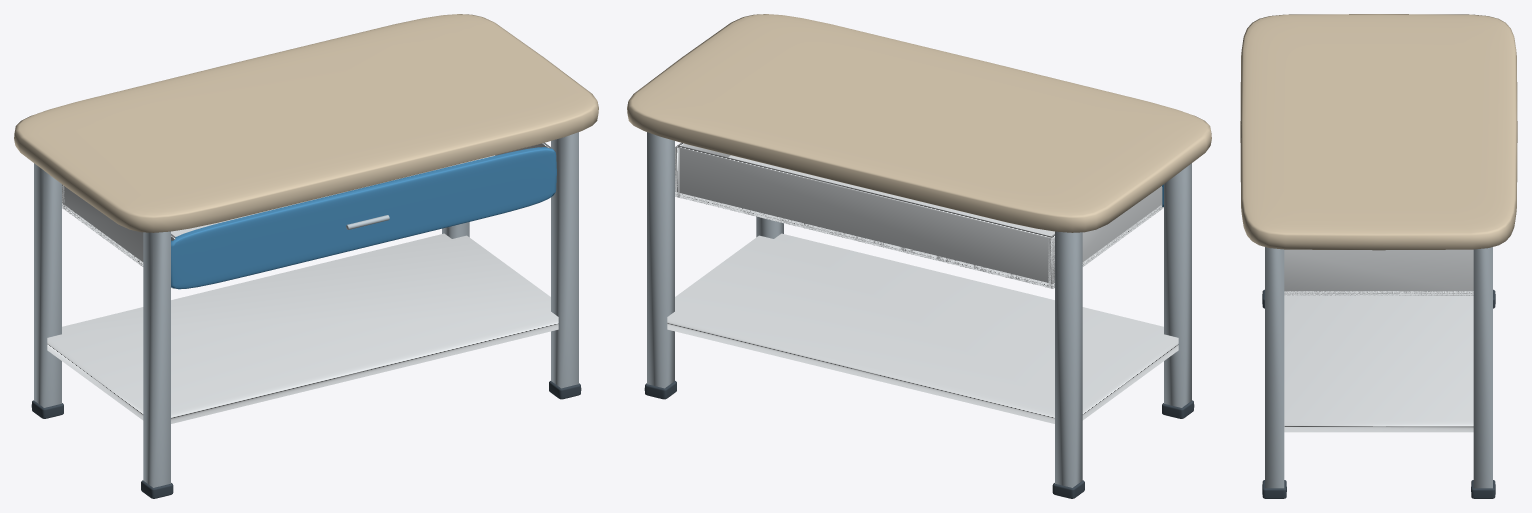
The model's file is model_workbench.glb.
3 renders of one model, left to right at view 1: azimuth 30°, elevation 25°; view 2: azimuth 150°, elevation 25°; view 3: azimuth 270°, elevation 25°, orthographic. The views are drawn at different scales.
Visible parts, largest first — view 1: Model_Worktop, Lower_Shelf, Workbench_Drawer_Front, Square_Leg-0.690.32, Square_Leg0.690.32, Square_Leg-0.69-0.32, Workbench_Drawer_Side_-1, Workbench_Drawer_Bottom; view 2: Model_Worktop, Lower_Shelf, Workbench_Drawer_Back, Square_Leg-0.69-0.32, Square_Leg0.69-0.32, Square_Leg-0.690.32, Workbench_Drawer_Bottom, Workbench_Drawer_Side_-1; view 3: Model_Worktop, Lower_Shelf, Workbench_Drawer, Square_Leg0.69-0.32, Square_Leg0.690.32, Workbench_Drawer_Bottom, Bench_Foot0.69-0.32, Bench_Foot0.690.32.
Part boxes in pixels (x1,y1,x2,y2): Model_Worktop: (14,14,598,232); Lower_Shelf: (47,233,558,423); Workbench_Drawer_Front: (171,147,556,289); Square_Leg-0.690.32: (143,231,170,487); Square_Leg0.690.32: (551,132,578,388); Square_Leg-0.69-0.32: (34,163,61,407); Workbench_Drawer_Side_-1: (62,184,175,288); Workbench_Drawer_Bottom: (62,155,494,288); Model_Worktop: (627,14,1211,232); Lower_Shelf: (667,233,1178,423); Workbench_Drawer_Back: (675,145,1054,288); Square_Leg-0.69-0.32: (1055,231,1082,487); Square_Leg0.69-0.32: (647,132,674,388); Square_Leg-0.690.32: (1164,163,1191,407); Workbench_Drawer_Bottom: (675,155,1163,288); Workbench_Drawer_Side_-1: (1048,186,1163,288); Model_Worktop: (1240,14,1517,250); Lower_Shelf: (1284,295,1473,432); Workbench_Drawer: (1284,249,1473,295); Square_Leg0.69-0.32: (1473,247,1492,488); Square_Leg0.690.32: (1265,247,1284,488); Workbench_Drawer_Bottom: (1284,291,1473,295); Bench_Foot0.69-0.32: (1471,480,1495,498); Bench_Foot0.690.32: (1262,480,1286,498).
Bounding box in the file's own units: 1.62 × 0.94 × 0.85.
